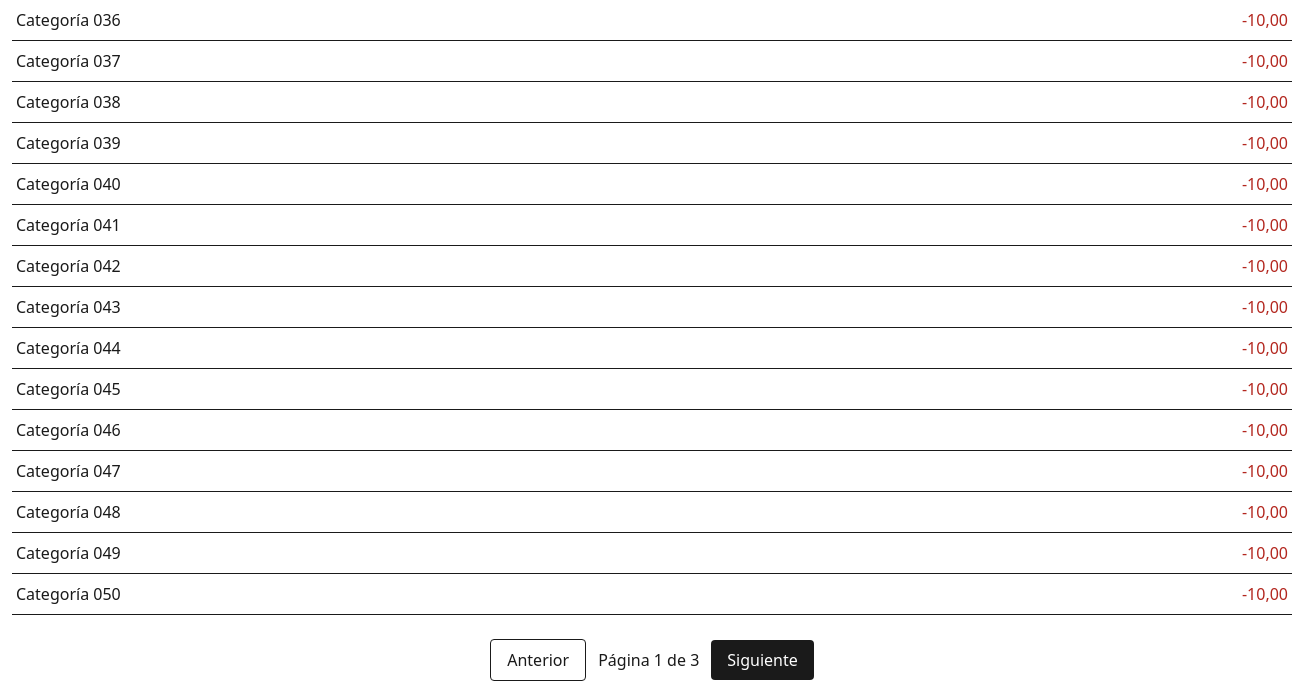
Test: SeccionCuenta › con total 120, dos "Siguiente" piden las páginas 2 y 3 y la última tiene 20 filas y "Siguiente" deshabilitado (AC-42)
(page scrolled)
Expected: the text "Página 1 de 3" is shown, [598, 648, 699, 672]
Click the button "Siguiente" at (763, 660), box [711, 640, 814, 680]
(page scrolled)
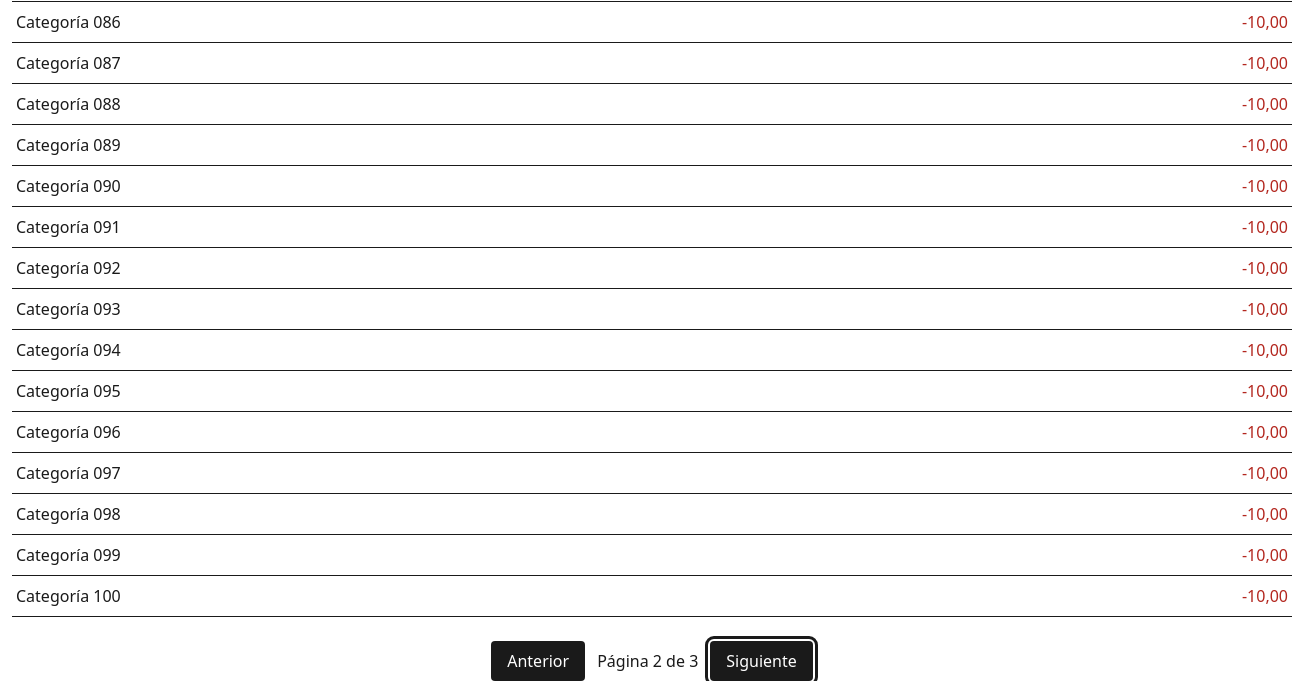
Expected: the text "Página 2 de 3" is shown, [597, 649, 698, 673]
Expected: the button "Categoría 100 -10,00" is shown, [12, 576, 1292, 616]
Click the button "Siguiente" at (762, 661), box [710, 641, 813, 680]
(page scrolled)
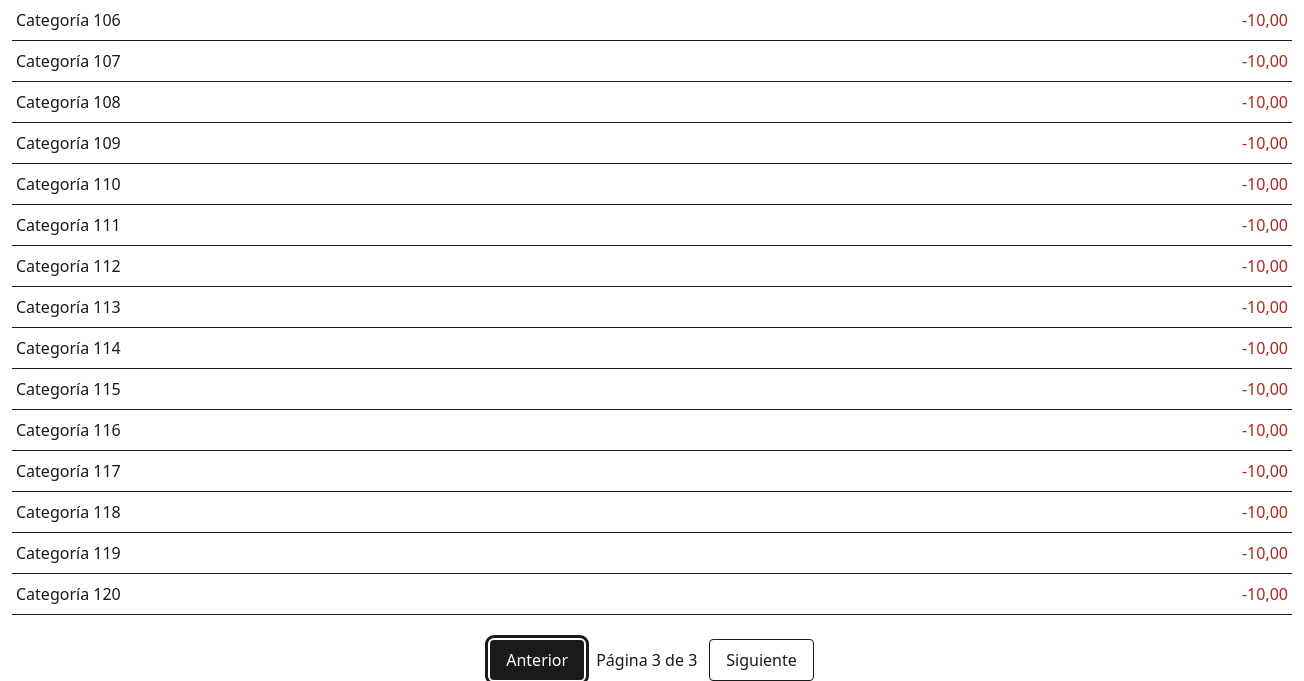
Expected: the button "Anterior" is enabled, [490, 640, 584, 680]
Expected: the text "Página 3 de 3" is shown, [596, 648, 697, 672]
Expected: the button "Siguiente" is disabled, [709, 639, 814, 680]
